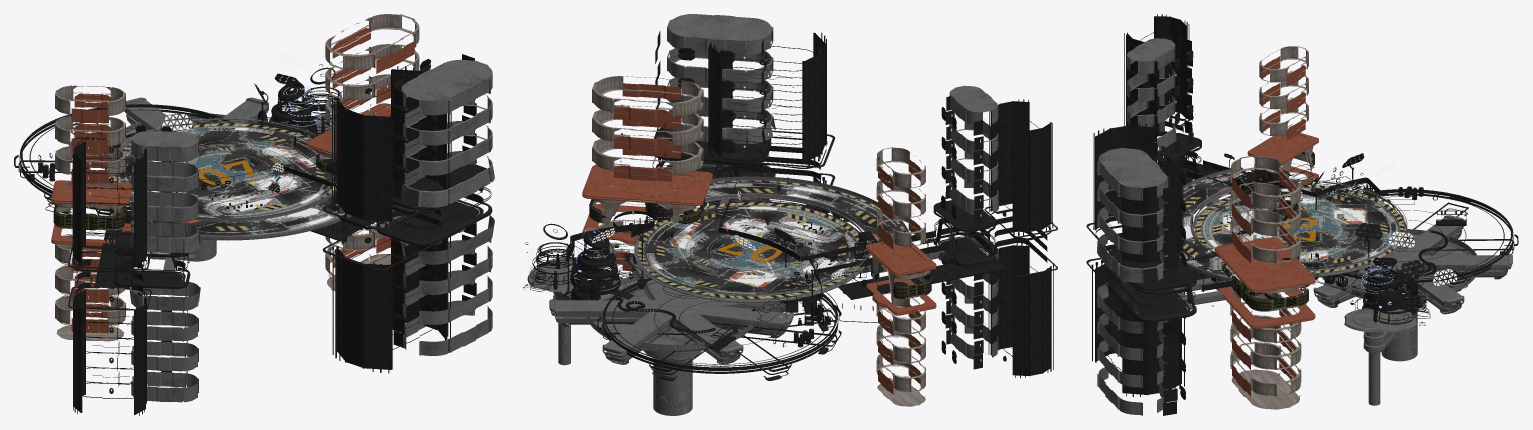
File: space base.glb
The picture shows the model from 3 angles, left to right: view 1: azimuth 30°, elevation 25°; view 2: azimuth 150°, elevation 25°; view 3: azimuth 270°, elevation 25°; orthographic projection. The views are drawn at different scales.
Parts seen in each view (by area): view 1: Cube013, Plane005, Circle000_2, Plane005_3, Cube014, Cube014_1, Circle000, Plane005_1, elevator003, Plane005_2, cables, Plane005_4; view 2: Cube013, Plane005, Circle000_2, Cube014_1, Plane005_3, Cube014, Circle000, Plane005_1, cables, Plane005_4, elevator003, Cube011 (+1 smaller); view 3: Plane005, Cube013, Plane005_3, Circle000_2, Cube014, Cube014_1, Plane005_1, Circle000, cables, elevator003, Plane005_2, Plane005_4 (+1 smaller).
Part boxes in pixels (x1=…): Cube013: x1=14, y1=66, x2=460, y2=415; Plane005: x1=69, y1=59, x2=494, y2=402; Circle000_2: x1=109, y1=123, x2=344, y2=235; Plane005_3: x1=73, y1=54, x2=492, y2=387; Cube014: x1=55, y1=14, x2=419, y2=341; Cube014_1: x1=51, y1=28, x2=414, y2=332; Circle000: x1=106, y1=117, x2=351, y2=240; Plane005_1: x1=90, y1=73, x2=339, y2=263; elevator003: x1=53, y1=154, x2=336, y2=230; Plane005_2: x1=88, y1=54, x2=442, y2=374; cables: x1=86, y1=103, x2=336, y2=192; Plane005_4: x1=95, y1=116, x2=374, y2=262; Cube013: x1=597, y1=32, x2=1057, y2=380; Plane005: x1=527, y1=14, x2=998, y2=415; Circle000_2: x1=637, y1=180, x2=905, y2=298; Cube014_1: x1=582, y1=83, x2=936, y2=394; Plane005_3: x1=523, y1=31, x2=995, y2=369; Cube014: x1=592, y1=76, x2=930, y2=406; Circle000: x1=634, y1=176, x2=911, y2=302; Plane005_1: x1=559, y1=184, x2=951, y2=316; cables: x1=570, y1=179, x2=949, y2=303; Plane005_4: x1=574, y1=172, x2=952, y2=321; elevator003: x1=589, y1=196, x2=931, y2=298; Cube011: x1=645, y1=202, x2=877, y2=304; Plane005: x1=1097, y1=38, x2=1512, y2=415; Cube013: x1=1086, y1=14, x2=1518, y2=396; Plane005_3: x1=1109, y1=39, x2=1466, y2=415; Circle000_2: x1=1177, y1=172, x2=1405, y2=278; Cube014: x1=1230, y1=46, x2=1313, y2=409; Cube014_1: x1=1215, y1=56, x2=1318, y2=396; Plane005_1: x1=1182, y1=153, x2=1426, y2=313; Circle000: x1=1182, y1=167, x2=1407, y2=282; cables: x1=1186, y1=160, x2=1380, y2=295; elevator003: x1=1223, y1=152, x2=1314, y2=311; Plane005_2: x1=1157, y1=38, x2=1457, y2=403; Plane005_4: x1=1185, y1=164, x2=1415, y2=306.
Bounding box in the file's own units: 2923325 × 1694291 × 2889644.
20 materials, 16 textured.
